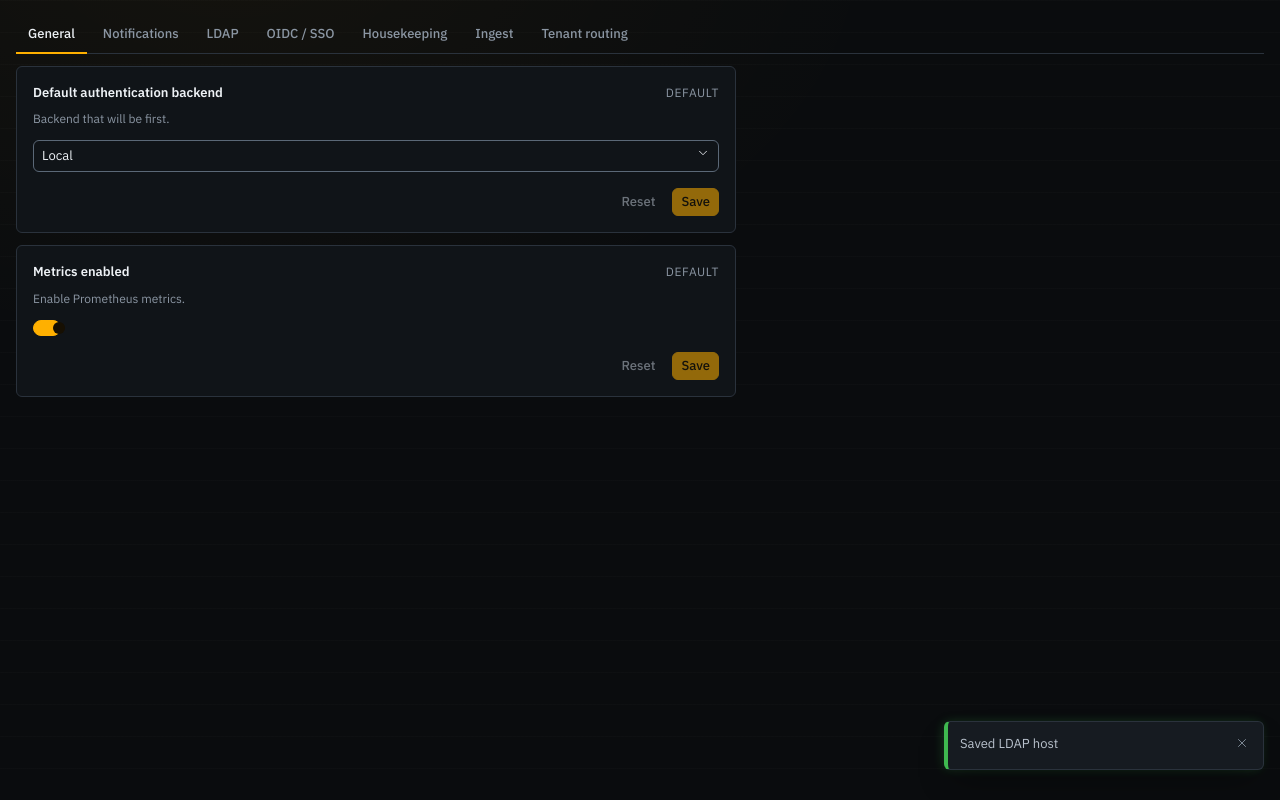
Test: SettingsPage › tenant_match.fail_closed switch is visible on the Tenant routing tab
Click the tab "Tenant routing": (585, 35) [529,16,640,54]
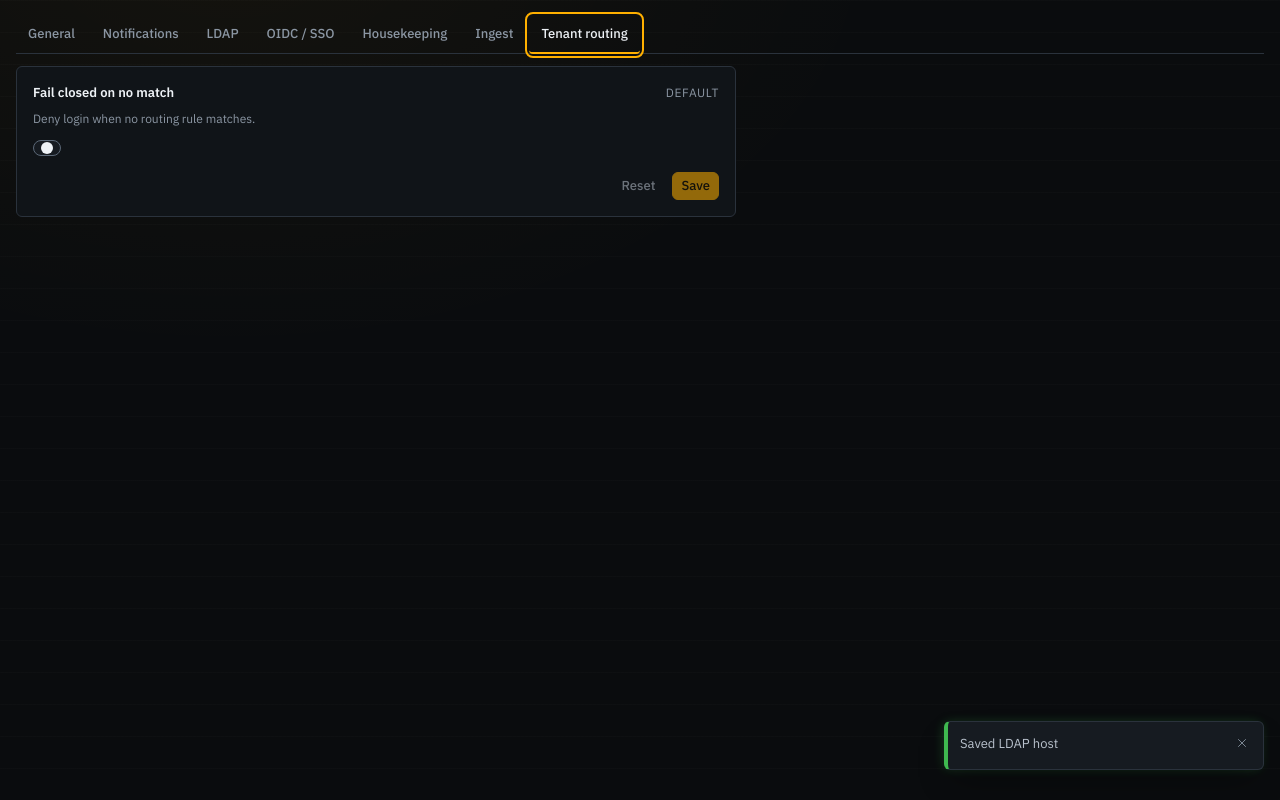
Expected: the text "Fail closed on no match" is shown, [33,82,174,102]
